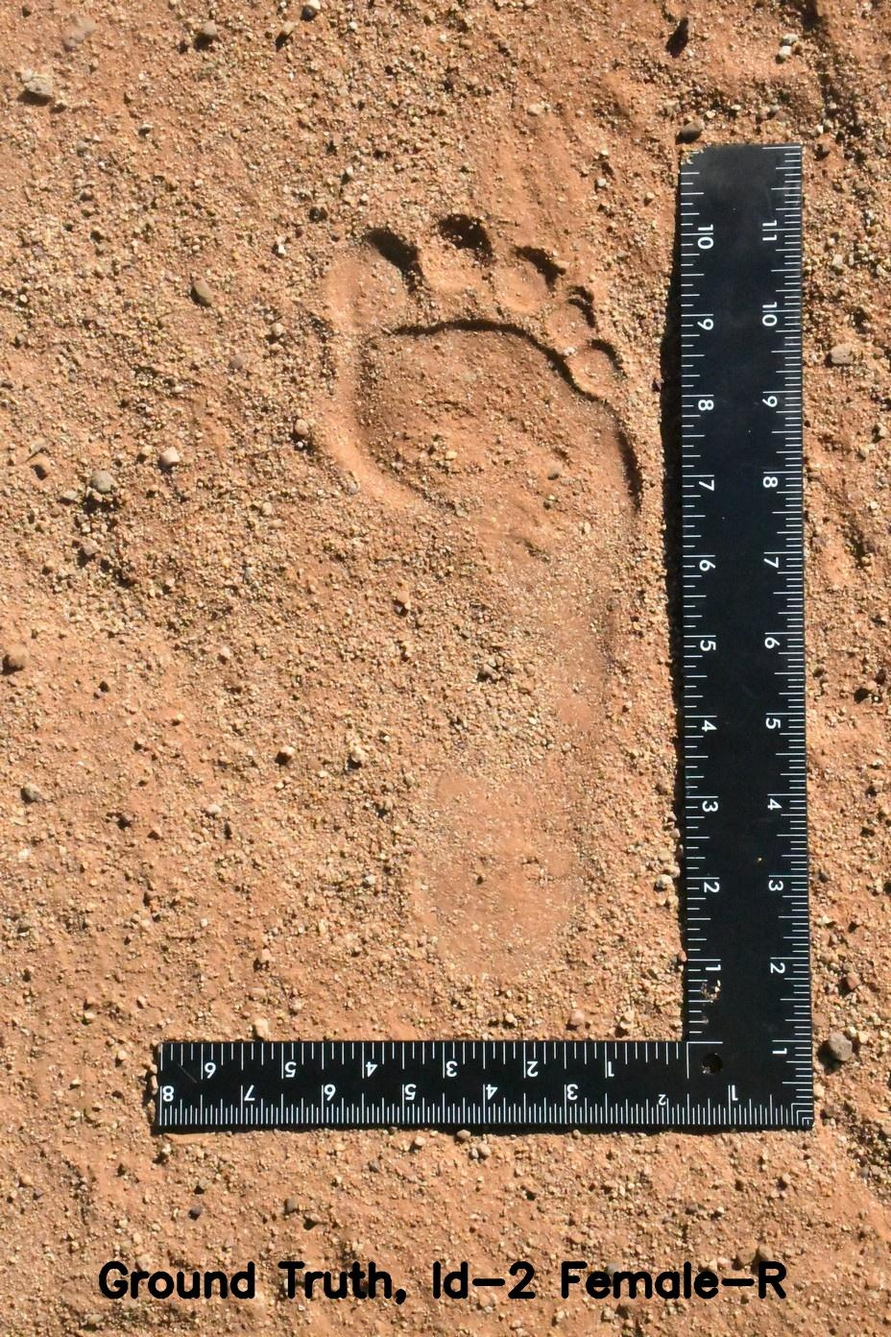human_footprint: (257, 183, 666, 1021)
